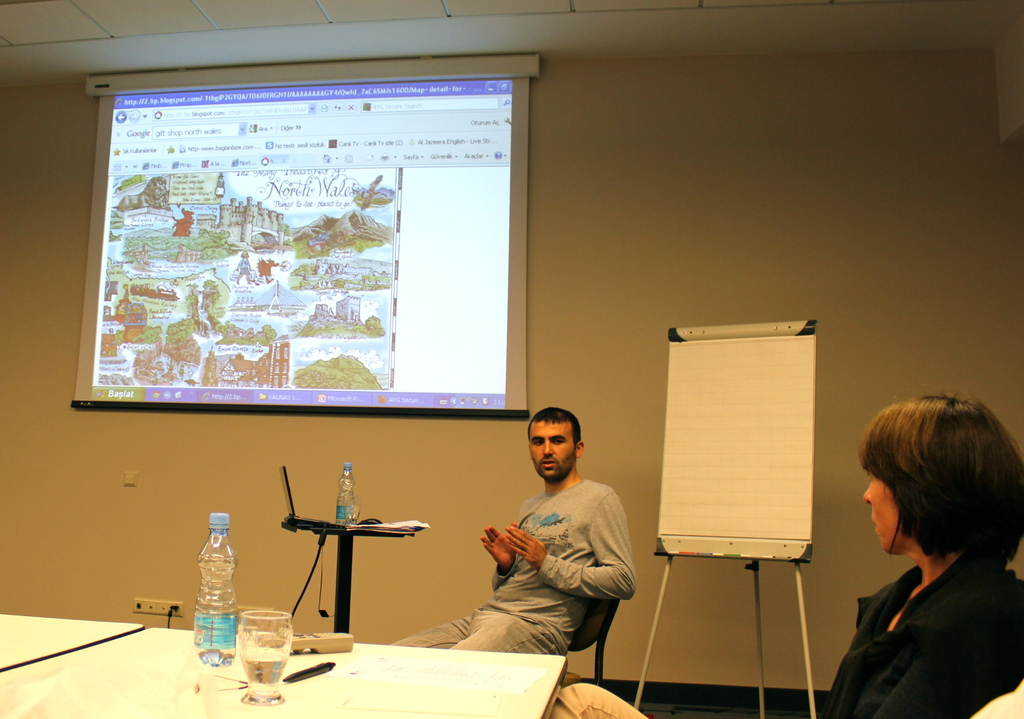Table: (4, 615, 573, 718), (248, 508, 417, 643)
